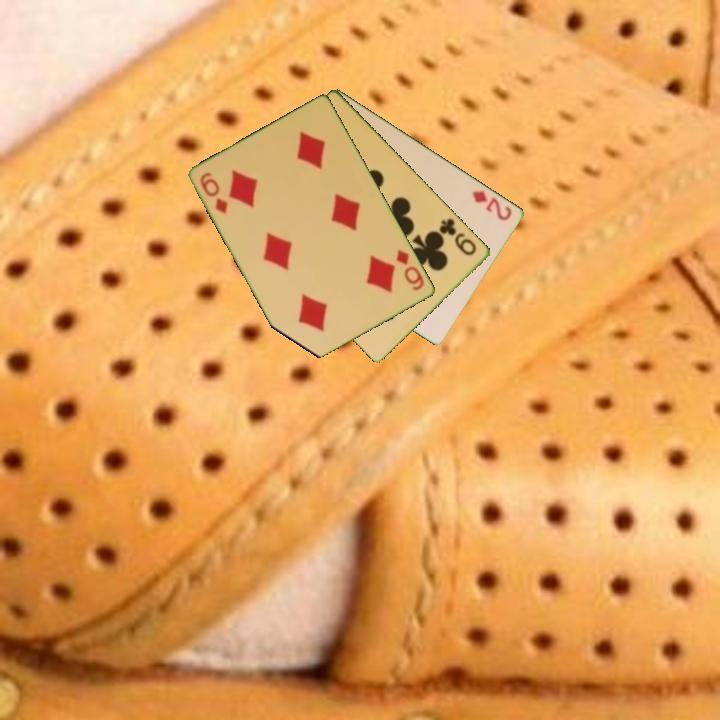2d: (469, 187, 515, 224)
6d: (393, 246, 428, 293), (197, 169, 231, 217)
9c: (436, 215, 480, 259)
